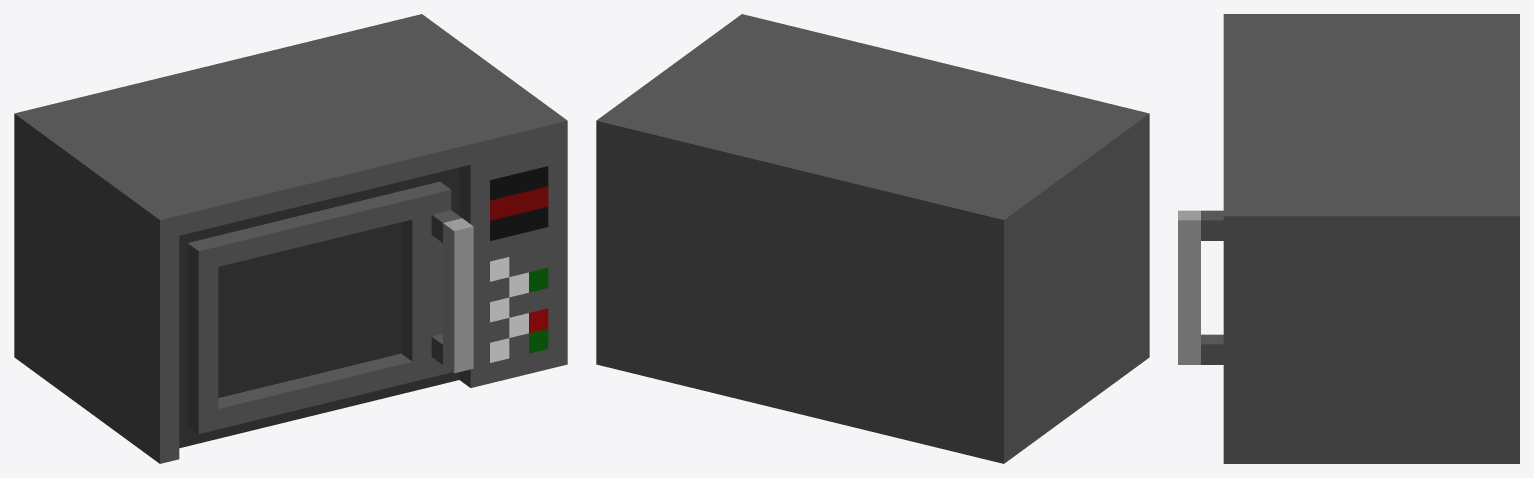
File: Micro.obj
The picture shows the model from 3 angles, left to right: view 1: azimuth 30°, elevation 25°; view 2: azimuth 150°, elevation 25°; view 3: azimuth 270°, elevation 25°; orthographic projection.
Size of the model in its own units: 2.1 by 1.2 by 1.5.
Materials: 1 (1 with a texture image).
